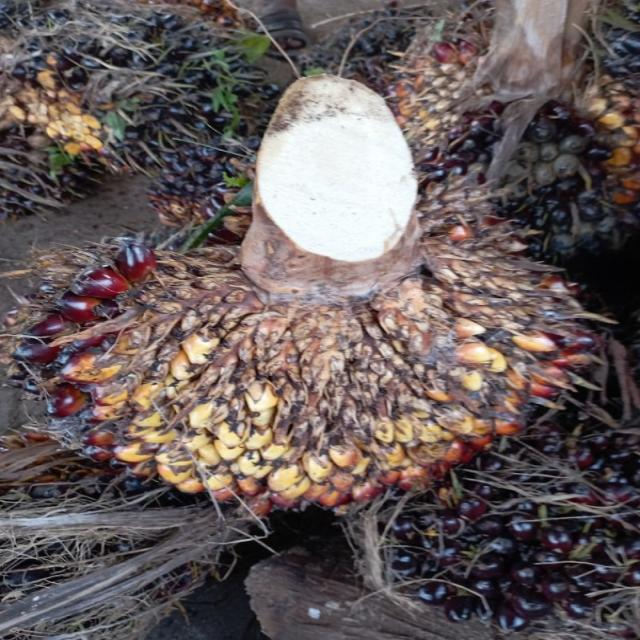fraksi 1: (19, 146, 614, 535)
